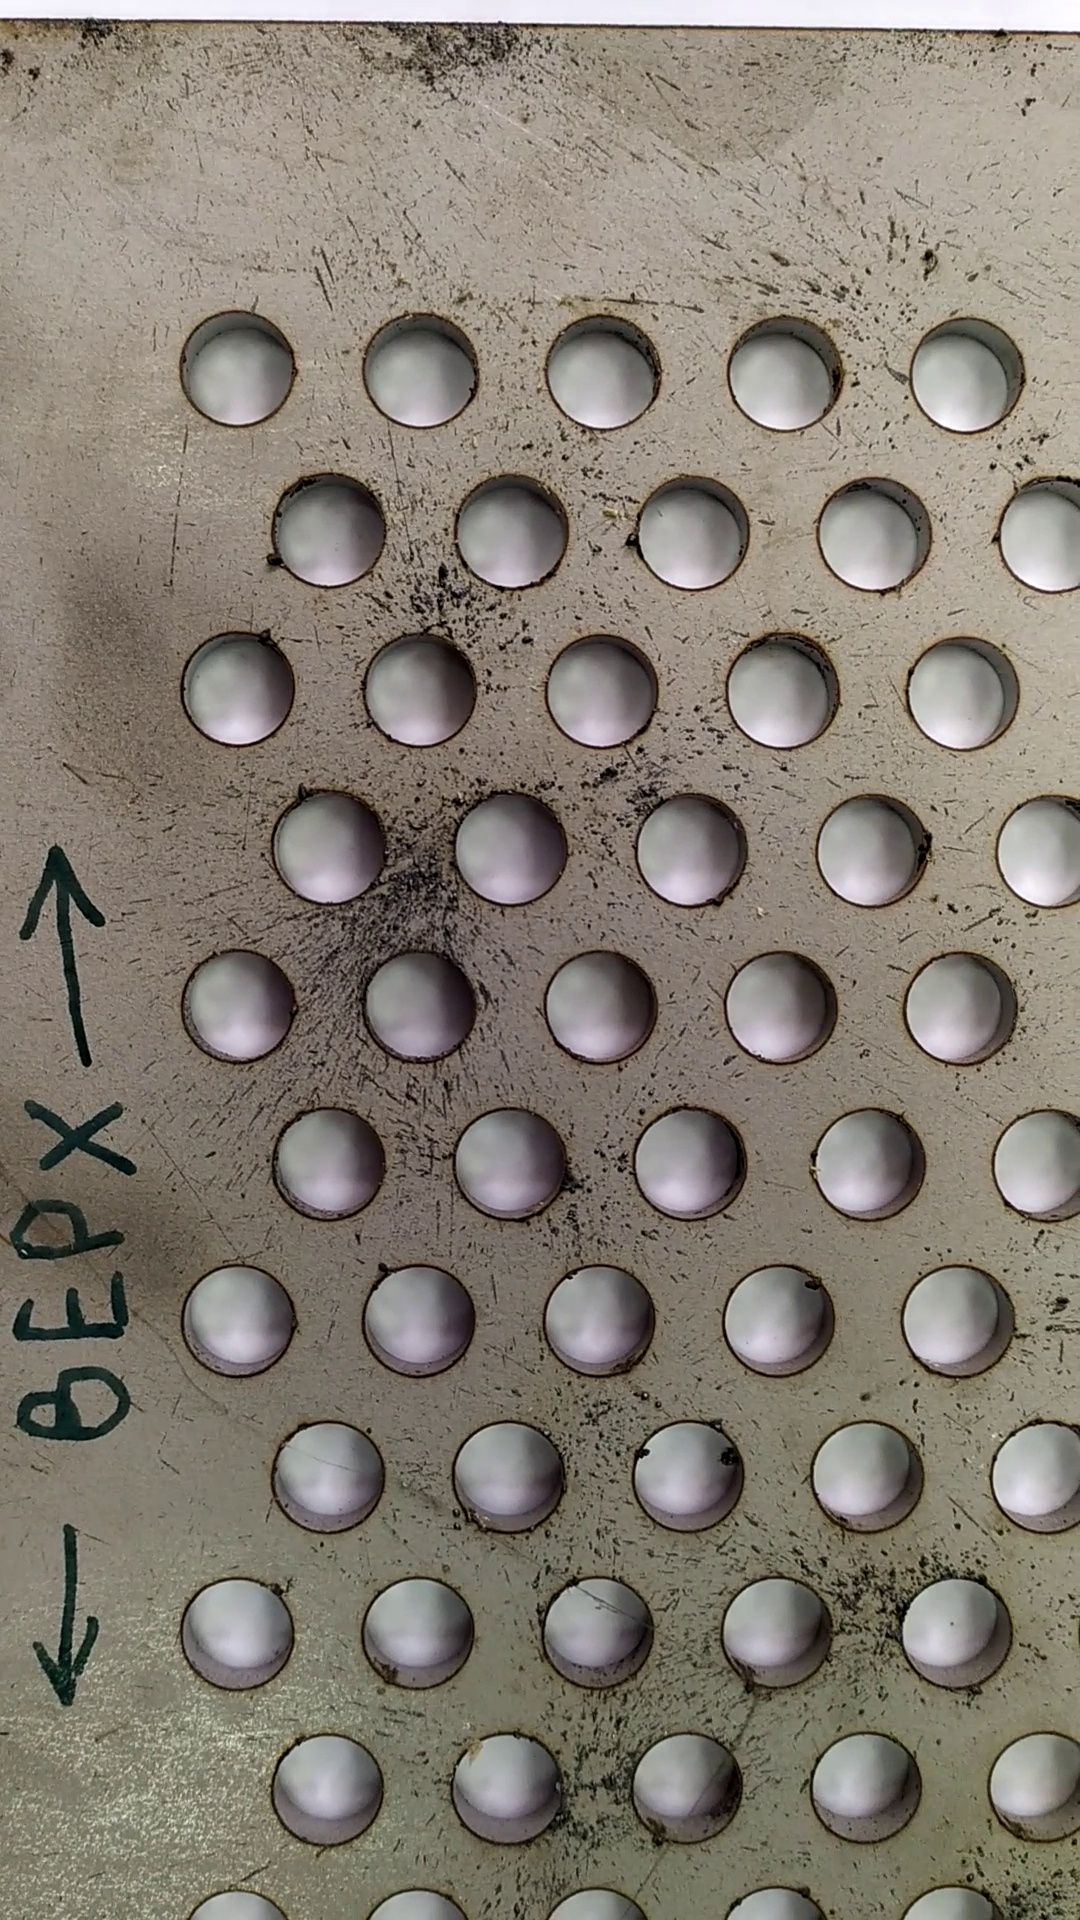Hole: (796, 1411, 947, 1552), (704, 936, 847, 1081), (165, 297, 306, 440), (618, 1093, 764, 1232), (798, 1097, 938, 1240), (891, 936, 1030, 1077), (164, 936, 310, 1069), (802, 464, 942, 603), (345, 1251, 487, 1389), (527, 940, 671, 1073), (257, 468, 404, 599), (712, 309, 861, 434), (440, 1098, 589, 1224), (434, 1414, 579, 1542), (626, 465, 761, 601), (891, 1250, 1029, 1383), (622, 1415, 760, 1548), (261, 781, 400, 913), (257, 1414, 396, 1545), (353, 940, 492, 1071), (444, 460, 579, 593), (712, 1251, 843, 1389), (543, 295, 669, 438), (531, 1258, 663, 1393), (889, 1571, 1025, 1701), (355, 628, 495, 754), (440, 781, 574, 913), (630, 781, 760, 916), (173, 1250, 301, 1387), (794, 1724, 932, 1850), (622, 1724, 756, 1854), (705, 1575, 841, 1702), (438, 1722, 568, 1854), (167, 622, 301, 752), (169, 1568, 298, 1701), (709, 628, 845, 754), (906, 307, 1033, 442), (257, 1727, 394, 1851), (538, 628, 679, 748), (357, 311, 487, 440), (261, 1097, 392, 1224), (347, 1575, 487, 1687), (810, 787, 930, 916), (898, 634, 1030, 752), (535, 1573, 661, 1695)
